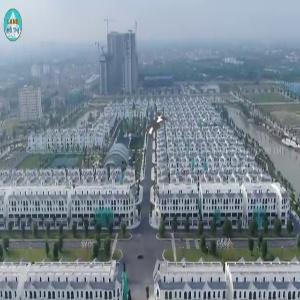drone: (120, 92, 190, 162)
